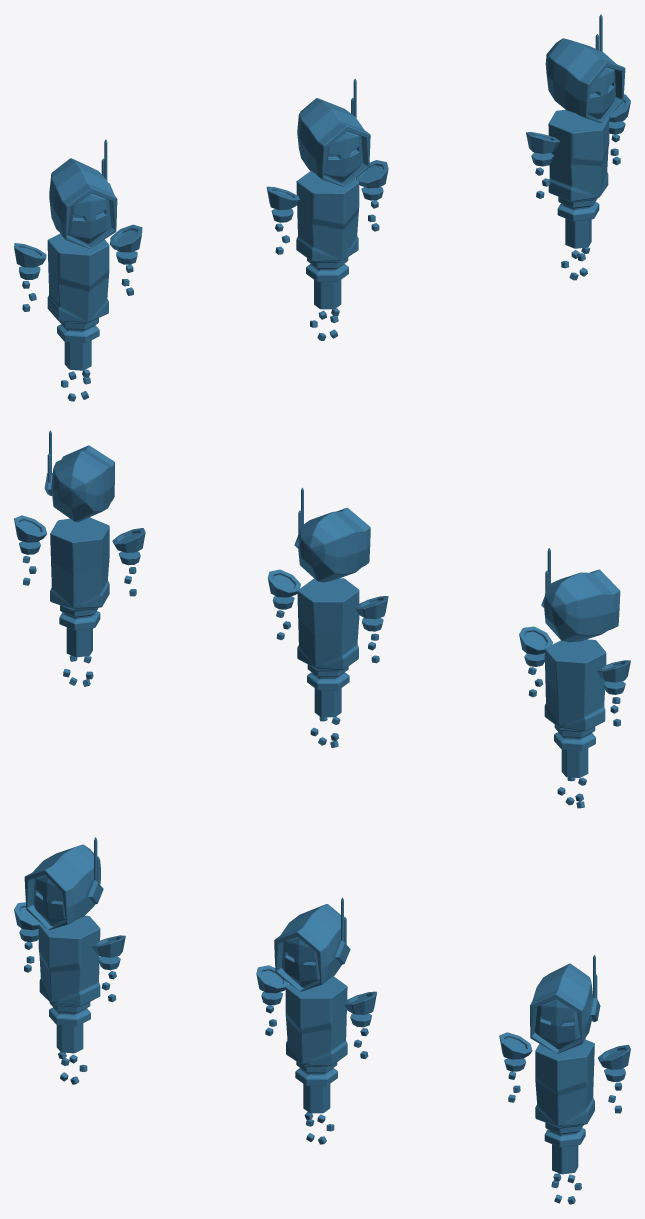
File: main_bot.obj
3 views of the same model, one above another, from view 1: azimuth 30°, elevation 25°; view 2: azimuth 150°, elevation 25°; view 3: azimuth 330°, elevation 25° (orthographic).
Visible parts, largest first — view 1: Cube_Cube.001, Circle.001, Cube_Cube.002; view 2: Circle.001, Cube_Cube.001, Cube_Cube.002; view 3: Cube_Cube.001, Circle.001, Cube_Cube.002.
Part boxes in pixels (left/top/right/bottom): Cube_Cube.001: left=266, top=78, right=388, bottom=340; Circle.001: left=14, top=139, right=142, bottom=401; Cube_Cube.002: left=526, top=14, right=630, bottom=280; Circle.001: left=519, top=548, right=630, bottom=808; Cube_Cube.001: left=267, top=487, right=388, bottom=747; Cube_Cube.002: left=14, top=430, right=145, bottom=686; Cube_Cube.001: left=256, top=897, right=376, bottom=1144; Circle.001: left=14, top=837, right=125, bottom=1084; Cube_Cube.002: left=499, top=955, right=630, bottom=1204.
Bounding box in the file's own units: 5.47 × 2.16 × 0.6324.
